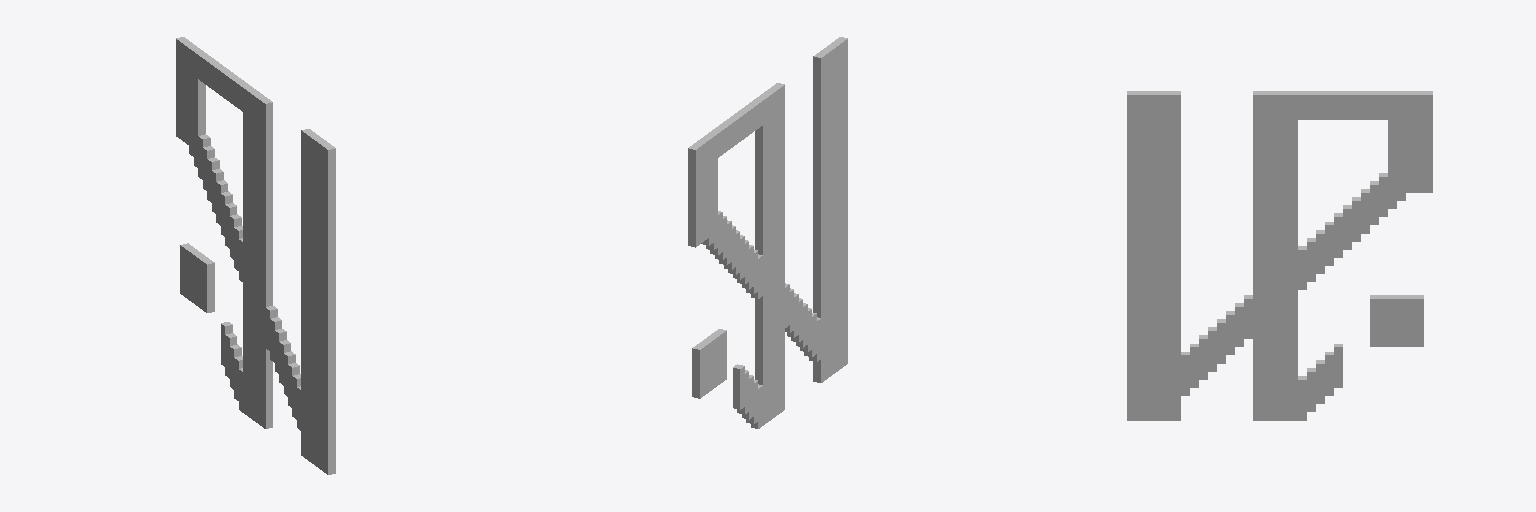
Rendered from Factory Bits-7-Rune3.obj.
The picture shows the model from 3 angles: view 1: azimuth 30°, elevation 25°; view 2: azimuth 150°, elevation 25°; view 3: azimuth 270°, elevation 25°; orthographic projection.
Parts seen in each view (by area): view 1: Rune3; view 2: Rune3; view 3: Rune3.
Boxes of the visible parts, box(x1,y1,x2,y2) form: Rune3: box(176, 37, 335, 474); Rune3: box(688, 37, 847, 428); Rune3: box(1127, 91, 1432, 420).
Bounding box in the file's own units: 0.1 × 4 × 3.4.